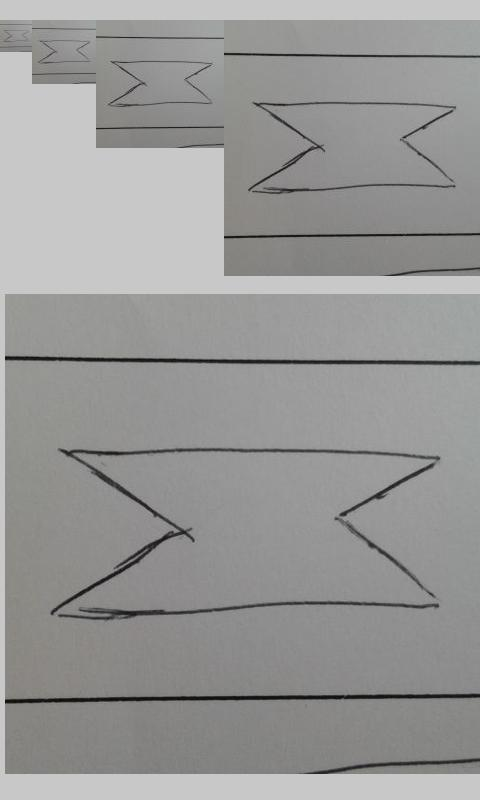edit_text: (53, 444, 441, 623), (249, 101, 457, 194), (108, 60, 214, 107), (39, 39, 91, 64), (3, 29, 30, 42)
